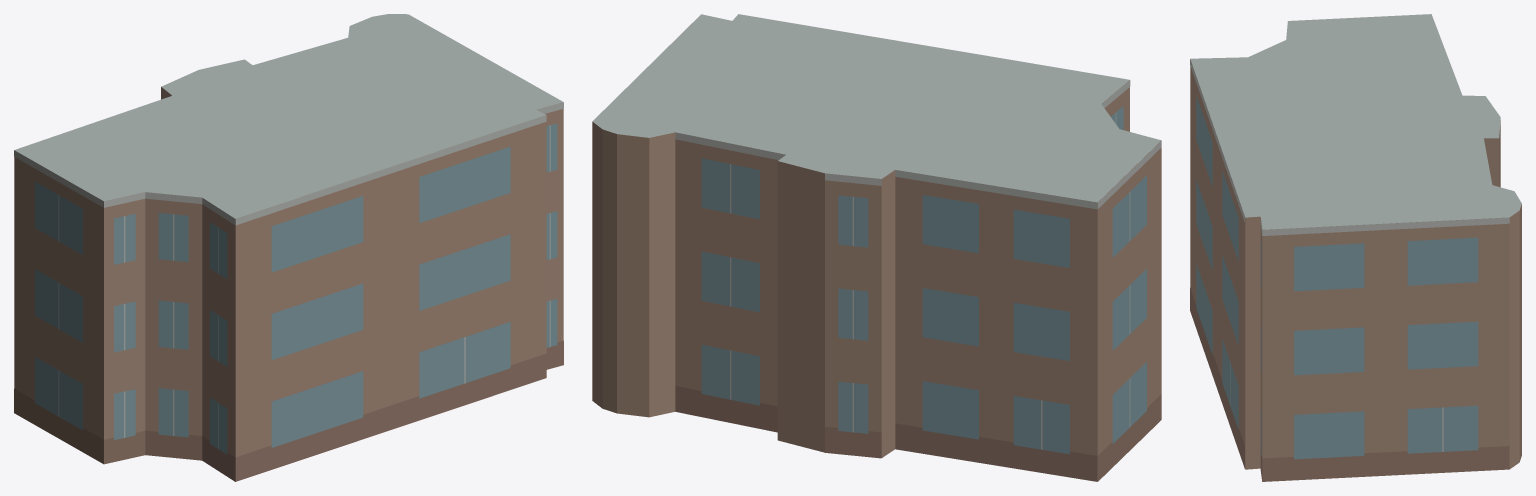
The model's file is survey-upis-32622478.glb.
3 views of the same model, side by side, from view 1: azimuth 30°, elevation 25°; view 2: azimuth 150°, elevation 25°; view 3: azimuth 270°, elevation 25° (orthographic). The views are drawn at different scales.
Visible parts, largest first — view 1: survey-upis-32622478.tmp; view 2: survey-upis-32622478.tmp; view 3: survey-upis-32622478.tmp.
Boxes of the visible parts, x1=… form: survey-upis-32622478.tmp: x1=14, y1=14, x2=563, y2=481; survey-upis-32622478.tmp: x1=592, y1=14, x2=1161, y2=481; survey-upis-32622478.tmp: x1=1190, y1=14, x2=1521, y2=481.
Bounding box in the file's own units: 18.01 × 9.8 × 11.7.
